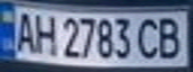2: (57, 14, 81, 58)
3: (112, 16, 136, 60)
7: (78, 15, 96, 60)
8: (93, 15, 118, 60)
A: (9, 8, 39, 54)
B: (154, 14, 187, 61)
C: (136, 15, 163, 61)
H: (30, 10, 57, 56)
